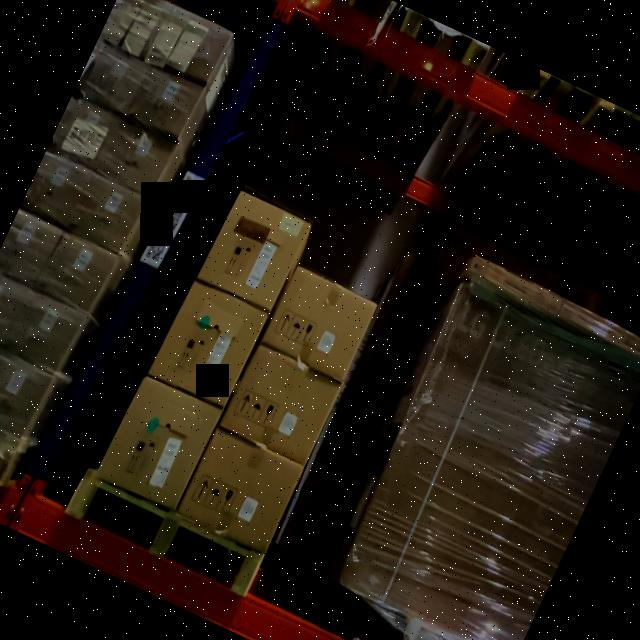box: (96, 378, 220, 512), (182, 430, 302, 548), (152, 282, 266, 404), (201, 189, 311, 312), (262, 267, 376, 382), (225, 350, 339, 458)
